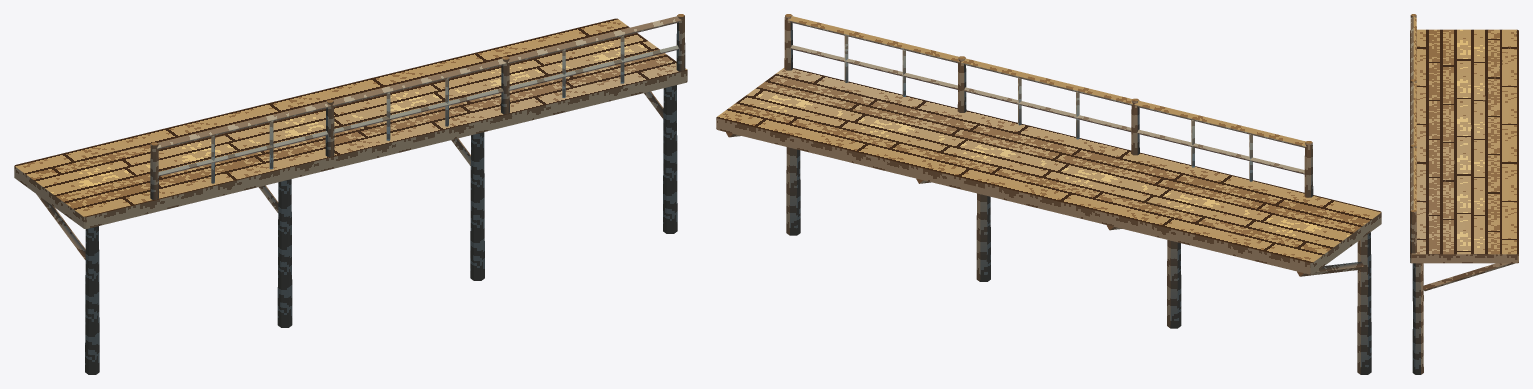
The model's file is wtown.gallery__west_stair.glb.
3 renders of one model, left to right at view 1: azimuth 30°, elevation 25°; view 2: azimuth 150°, elevation 25°; view 3: azimuth 270°, elevation 25°, orthographic. The views are drawn at different scales.
Parts seen in each view (by area): view 1: kit_deck, kit_railing, kit_posts, kit_braces; view 2: kit_deck, kit_railing, kit_posts, kit_braces; view 3: kit_deck, kit_railing, kit_posts, kit_braces.
Boxes of the visible parts, x1,y1,x2,y2 form: kit_deck: (14, 18, 687, 228); kit_railing: (150, 14, 685, 199); kit_posts: (85, 85, 677, 374); kit_braces: (36, 91, 663, 259); kit_deck: (716, 68, 1381, 274); kit_railing: (784, 14, 1313, 197); kit_posts: (786, 147, 1371, 374); kit_braces: (726, 132, 1364, 276); kit_deck: (1410, 29, 1518, 263); kit_railing: (1410, 14, 1416, 253); kit_posts: (1412, 263, 1423, 374); kit_braces: (1423, 263, 1514, 291).
Bounding box in the file's own units: 11.72 × 4.01 × 2.4.
Materials: 4 (4 with a texture image).
